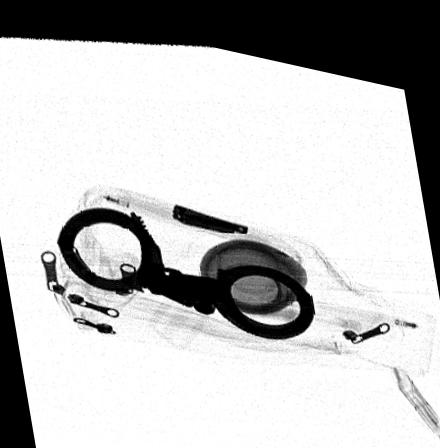HandCuffs: (56, 201, 315, 326)
